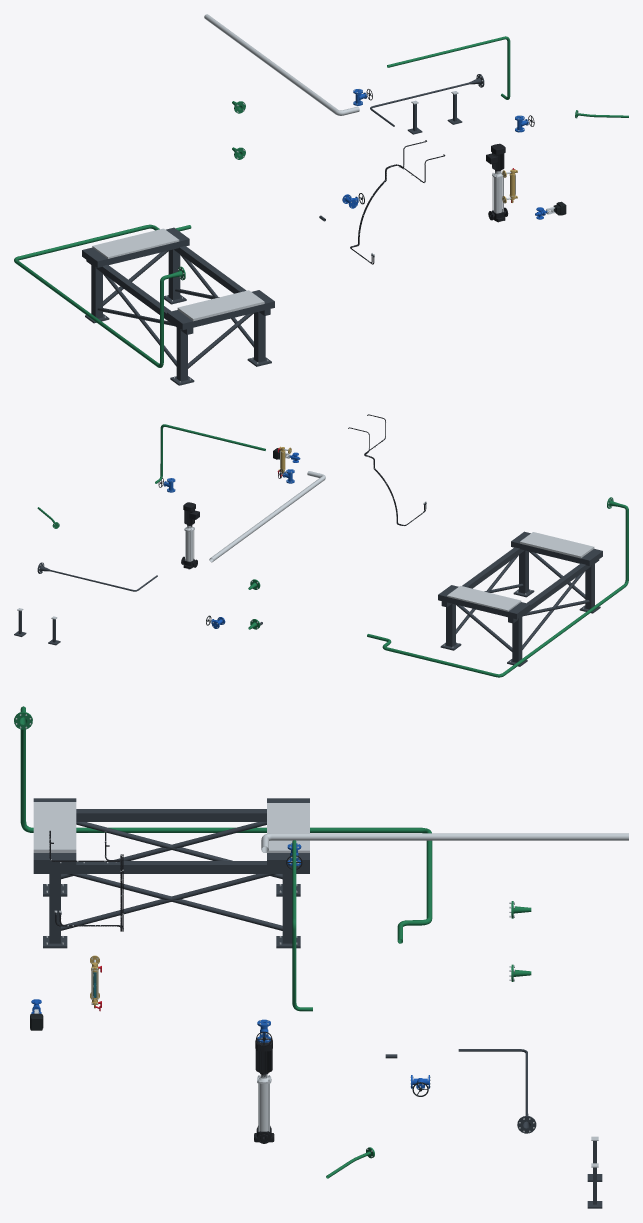
3 renders of one model, top to bottom at view 1: azimuth 30°, elevation 25°; view 2: azimuth 150°, elevation 25°; view 3: azimuth 270°, elevation 25°, orthographic. The views are drawn at different scales.
Parts seen in each view (by area): view 1: deaerator_support / dark, deaerator_support / steel, deaerator_feed / green, safety_vent_2 / steel, to_direct / green; view 2: deaerator_support / dark, deaerator_support / steel, deaerator_feed / green, safety_vent_2 / steel, to_direct / green; view 3: deaerator_support / dark, deaerator_support / steel, deaerator_feed / green, safety_vent_2 / steel, to_direct / green.
Boxes of the visible parts, bbox=[...] form: deaerator_support / dark: bbox=[82, 227, 274, 385]; deaerator_support / steel: bbox=[92, 228, 268, 382]; deaerator_feed / green: bbox=[14, 224, 191, 367]; safety_vent_2 / steel: bbox=[204, 14, 359, 115]; to_direct / green: bbox=[402, 36, 510, 99]; deaerator_support / dark: bbox=[438, 531, 602, 666]; deaerator_support / steel: bbox=[443, 532, 594, 662]; deaerator_feed / green: bbox=[367, 497, 628, 677]; safety_vent_2 / steel: bbox=[209, 471, 325, 562]; to_direct / green: bbox=[155, 424, 252, 483]; deaerator_support / dark: bbox=[33, 798, 309, 948]; deaerator_support / steel: bbox=[33, 802, 309, 944]; deaerator_feed / green: bbox=[14, 706, 432, 943]; safety_vent_2 / steel: bbox=[261, 833, 628, 852]; to_direct / green: bbox=[292, 850, 312, 1011].
Bounding box in the file's own units: 9.44 × 2.8 × 6.32.
